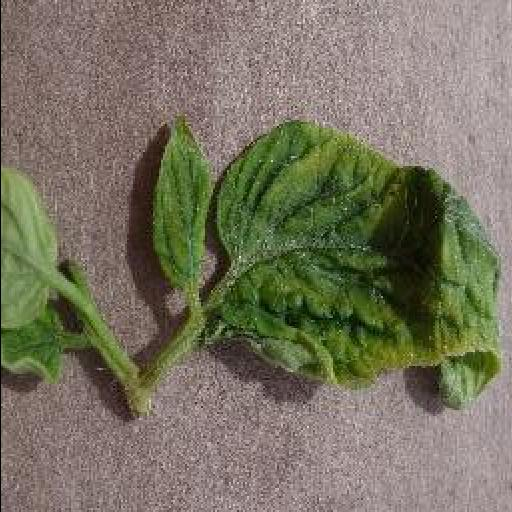disease_tomato: (215, 115, 505, 409), (152, 122, 210, 292)
